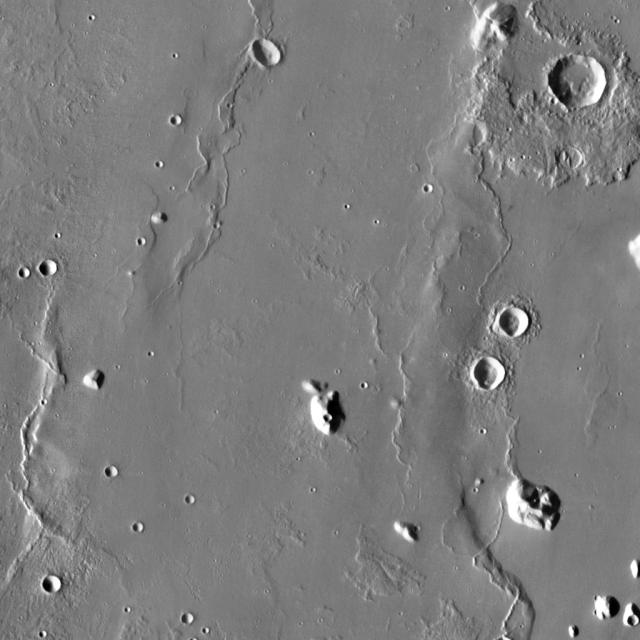crater: (549, 56, 608, 110), (501, 308, 532, 337), (476, 359, 506, 388), (254, 39, 282, 65), (558, 145, 584, 169), (44, 575, 63, 593), (34, 261, 51, 277), (184, 86, 197, 98), (182, 613, 194, 625), (628, 616, 640, 627), (101, 466, 113, 476), (172, 116, 183, 126), (13, 269, 24, 279), (134, 523, 144, 533), (154, 160, 164, 169), (401, 18, 410, 28), (137, 237, 147, 246), (424, 184, 434, 192), (187, 496, 196, 504), (361, 381, 368, 388), (40, 632, 48, 638), (207, 216, 214, 222), (196, 620, 203, 626)
